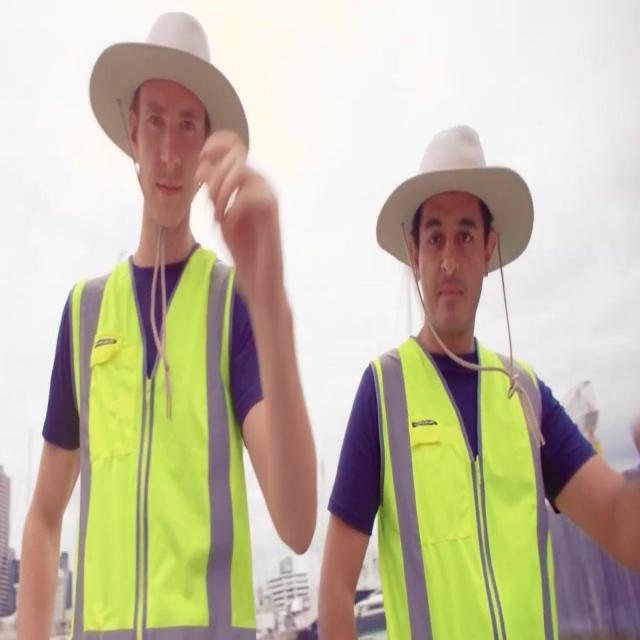Reflective-Jacket: (62, 248, 262, 636), (358, 331, 559, 640)
